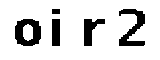2: (115, 6, 151, 53)
i: (47, 1, 66, 53)
o: (13, 19, 44, 50)
r: (79, 14, 110, 51)
